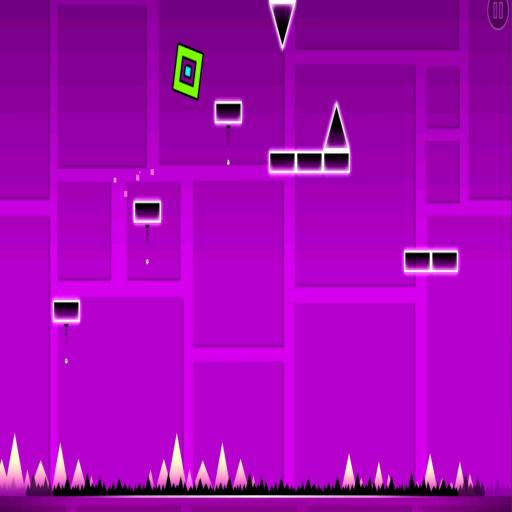block: (266, 142, 354, 184), (402, 246, 462, 278), (212, 96, 247, 130), (132, 193, 164, 229), (48, 297, 82, 326)
player: (172, 44, 203, 99)
spike: (269, 0, 295, 49), (324, 103, 348, 149), (7, 434, 23, 487), (169, 433, 184, 486), (215, 444, 229, 487), (53, 444, 66, 487), (341, 455, 355, 489), (195, 461, 212, 487), (425, 455, 436, 489), (71, 460, 84, 488), (233, 460, 246, 487), (35, 461, 49, 486), (156, 460, 168, 488), (454, 463, 463, 489), (374, 464, 383, 489), (0, 460, 6, 486), (24, 470, 30, 488), (187, 470, 192, 488), (148, 471, 153, 487), (468, 474, 472, 488), (387, 474, 391, 487), (89, 476, 93, 486), (252, 476, 254, 485)
